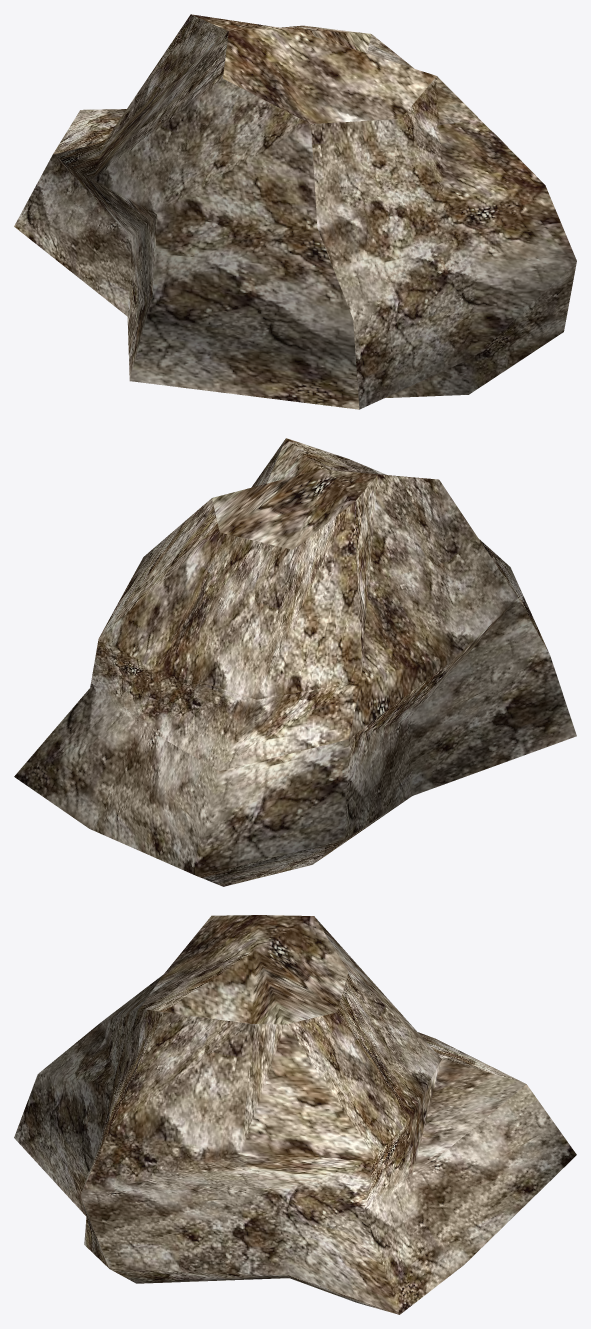
The model's file is nder39.obj.
The picture shows the model from 3 angles, top to bottom: view 1: azimuth 30°, elevation 25°; view 2: azimuth 150°, elevation 25°; view 3: azimuth 270°, elevation 25°; orthographic projection. The views are drawn at different scales.
Parts seen in each view (by area): view 1: nder39; view 2: nder39; view 3: nder39.
Boxes of the visible parts, x1,y1,x2,y2 form: nder39: (14, 14, 576, 409); nder39: (14, 438, 576, 886); nder39: (14, 915, 576, 1314).
Bounding box in the file's own units: 72.79 × 54.82 × 93.
